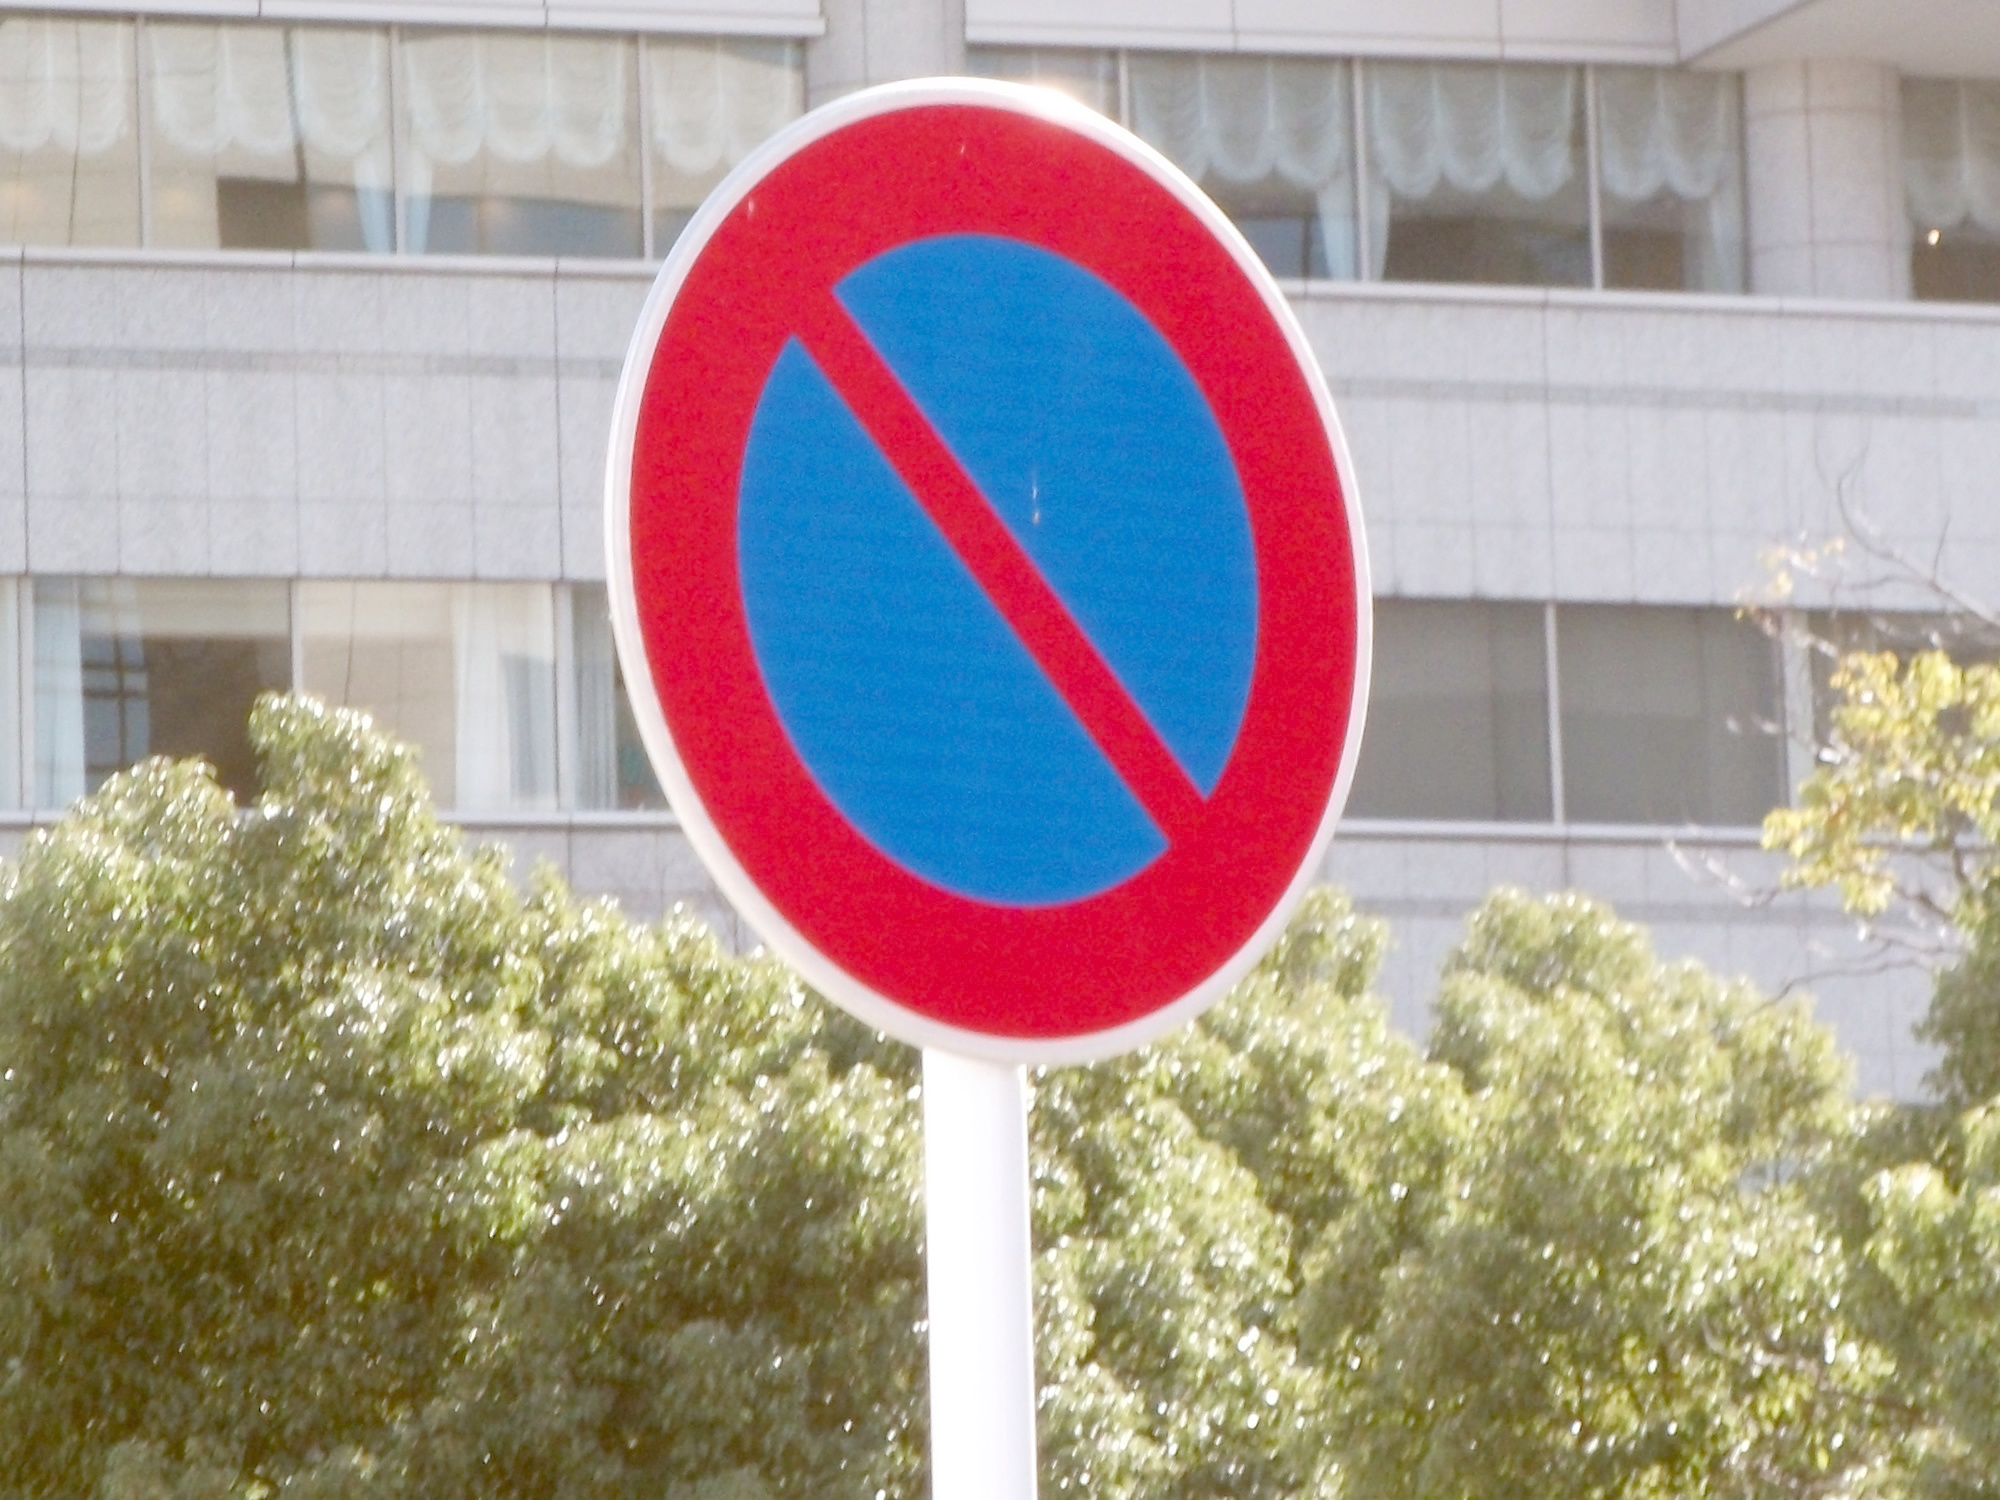Prohibition_sign: (548, 55, 1424, 1079)
